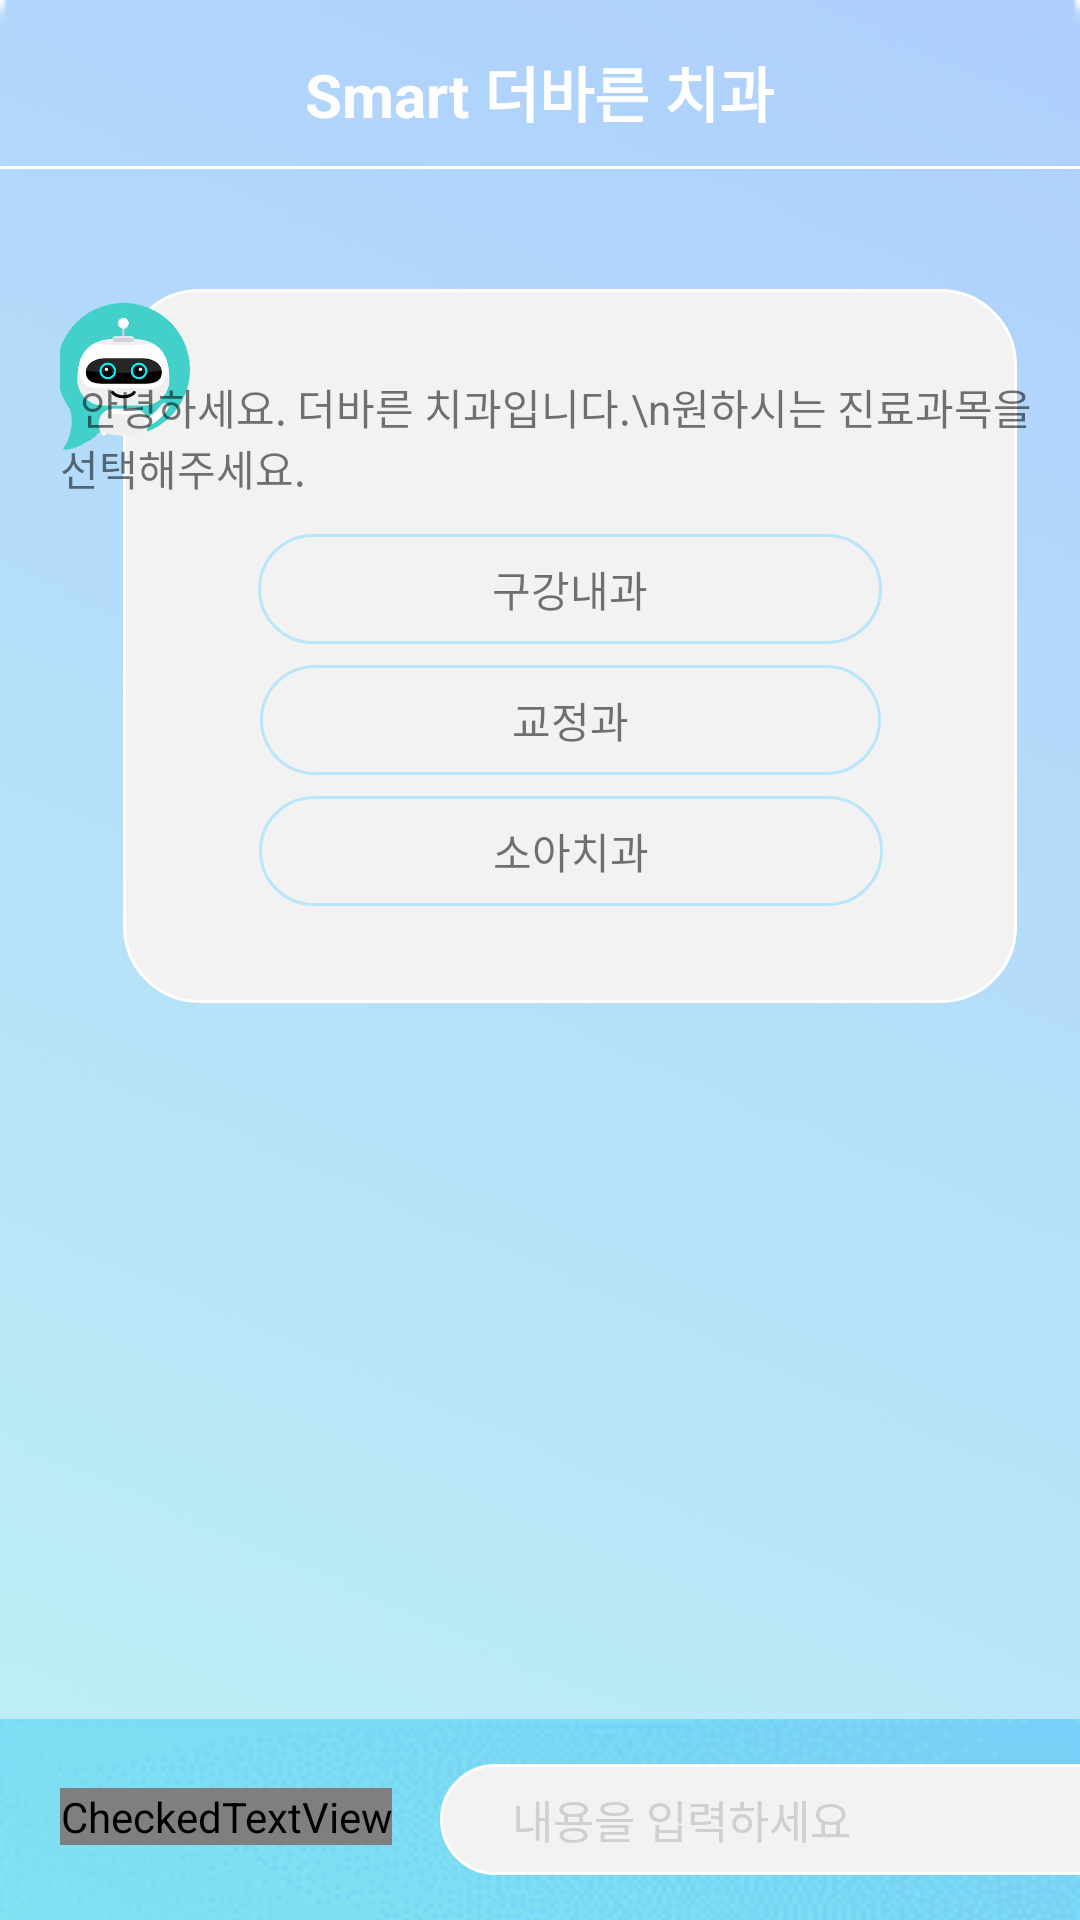

Icon click points for this 1080px×1920px phone screenshot, format (x=x, y=y):
bot: (x=128, y=376)
